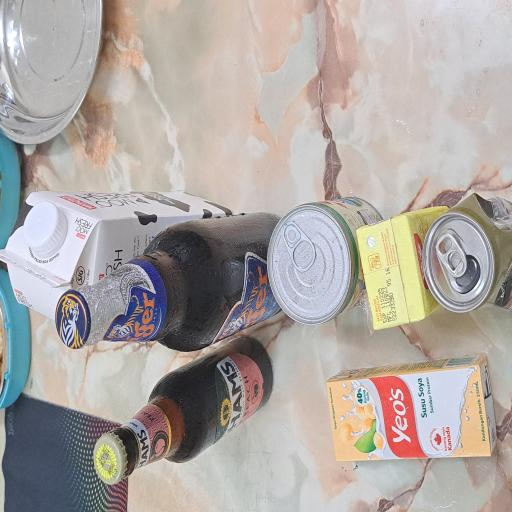can: (141, 355, 237, 512)
drink carton: (142, 0, 241, 310), (38, 433, 119, 512), (135, 473, 229, 512)
glass bottle: (119, 72, 225, 378), (20, 123, 132, 367)
pop tab: (179, 376, 218, 422)
